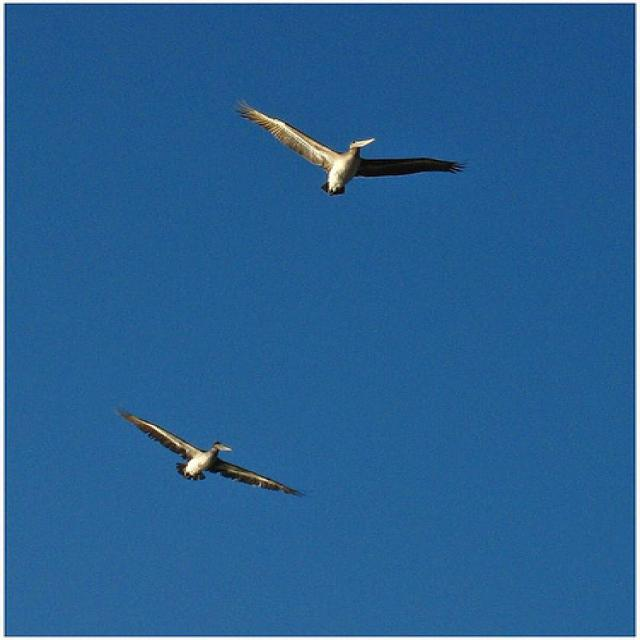bird: (233, 101, 462, 201), (115, 409, 305, 499)
